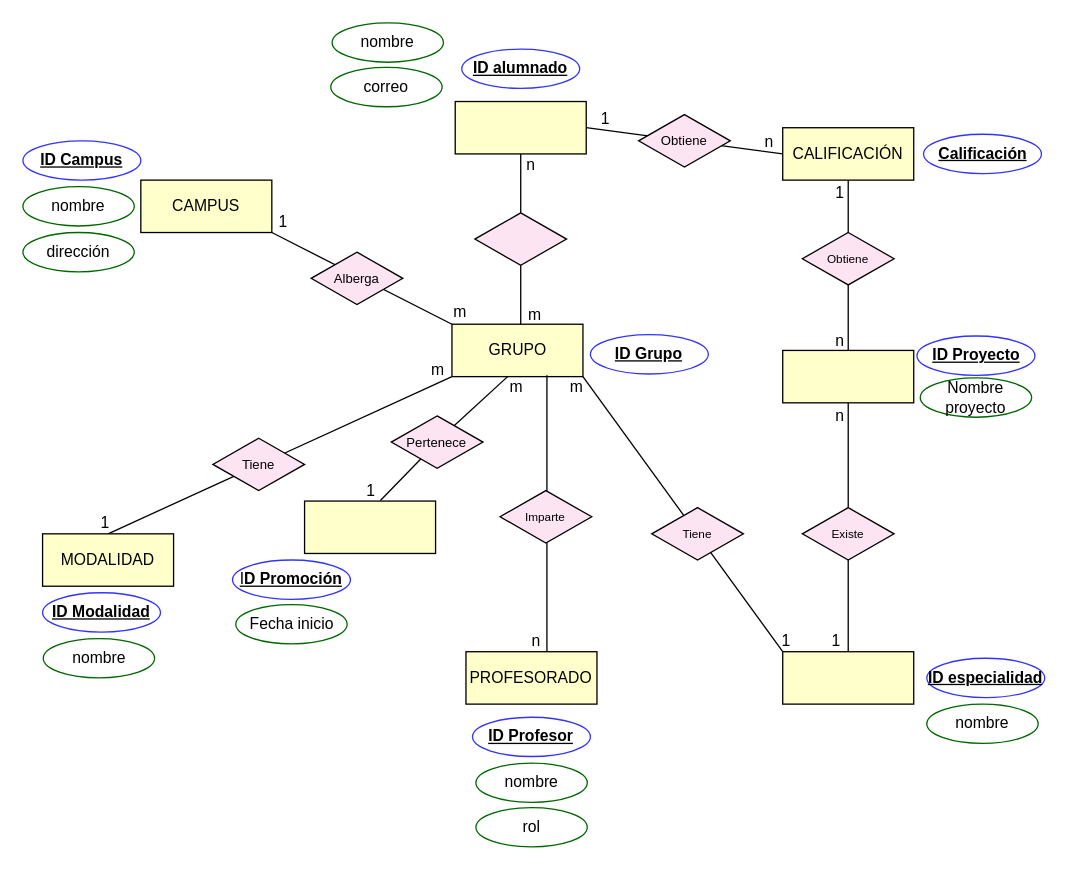
The diagram is 1068 pixels wide and 870 high, and some of its shapes have lost their labels. The shapes that lost their labels are listed below. From the top down, each one's centre as x and y in pixels, then its label:
the point at 520,127: ALUMNADO
the point at 520,238: Cursa
the point at 847,376: PROYECTO
the point at 369,526: PROMOCIÓN
the point at 847,677: ESPECIALIDAD
